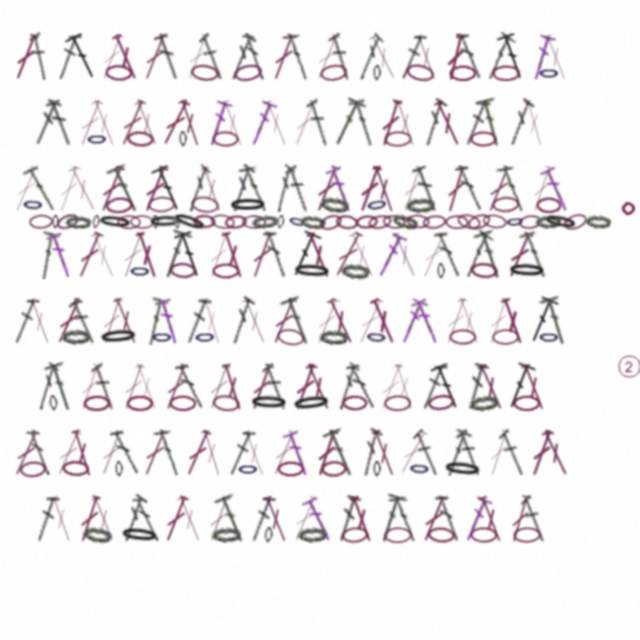chain: (171, 210, 208, 234), (291, 393, 332, 413), (442, 459, 483, 479), (119, 525, 160, 545), (98, 327, 139, 346), (542, 212, 579, 232), (292, 262, 332, 280), (507, 262, 547, 279), (249, 394, 289, 411), (97, 213, 133, 231), (228, 197, 268, 213), (233, 62, 263, 83), (405, 62, 435, 83), (468, 393, 499, 413), (276, 327, 305, 347), (190, 195, 220, 214), (319, 195, 349, 214), (82, 525, 112, 544), (562, 211, 589, 232), (190, 63, 219, 82), (319, 63, 348, 82), (55, 211, 81, 232), (466, 211, 492, 232), (405, 196, 435, 214), (340, 262, 370, 280), (391, 212, 419, 231), (427, 393, 455, 412), (148, 214, 183, 229), (318, 212, 344, 232), (211, 526, 241, 543), (297, 526, 327, 543), (126, 130, 154, 148), (105, 196, 133, 214), (212, 394, 240, 412), (19, 460, 47, 478), (341, 526, 369, 544), (427, 526, 455, 544), (456, 212, 482, 231), (61, 328, 90, 345), (169, 262, 197, 279), (470, 262, 498, 279), (367, 213, 393, 231), (319, 329, 348, 345), (105, 64, 132, 81), (148, 196, 175, 213), (492, 196, 519, 213), (251, 213, 278, 230), (62, 460, 89, 477), (365, 195, 389, 214), (492, 65, 520, 81), (384, 131, 412, 147), (384, 527, 412, 543), (513, 527, 541, 543), (321, 460, 347, 477), (449, 65, 476, 81), (212, 131, 239, 147), (470, 131, 497, 147), (299, 214, 326, 230), (212, 263, 239, 279), (449, 329, 476, 345), (492, 329, 519, 345), (83, 395, 110, 411), (126, 395, 153, 411), (169, 395, 196, 411), (384, 395, 411, 411), (513, 395, 540, 411), (277, 461, 304, 477), (470, 527, 497, 543), (210, 213, 235, 230), (482, 213, 507, 230), (536, 197, 562, 213), (342, 395, 368, 411), (365, 328, 388, 346), (422, 214, 447, 230), (518, 214, 543, 230), (408, 460, 431, 477), (535, 214, 561, 229), (585, 214, 611, 229), (224, 214, 248, 230), (335, 214, 359, 230), (355, 214, 379, 230), (382, 214, 406, 230), (22, 196, 44, 213), (65, 215, 91, 229), (29, 214, 53, 229), (406, 214, 430, 229), (287, 213, 308, 230), (538, 65, 560, 81), (86, 131, 108, 147), (129, 263, 151, 279), (151, 329, 173, 345), (194, 329, 216, 345), (538, 329, 560, 345), (237, 461, 259, 477), (193, 214, 216, 229), (117, 215, 141, 229), (130, 215, 154, 229), (242, 215, 266, 229), (445, 215, 469, 229), (505, 214, 525, 229), (49, 395, 58, 411), (264, 527, 273, 543), (373, 65, 381, 81), (179, 131, 187, 147), (437, 263, 445, 279), (115, 461, 123, 477), (373, 461, 381, 477), (276, 215, 285, 229), (92, 215, 100, 229), (173, 215, 181, 229), (52, 215, 59, 229), (152, 215, 159, 229)
double: (328, 97, 367, 149), (106, 163, 145, 215), (322, 427, 360, 479), (64, 31, 102, 82), (429, 360, 466, 412), (214, 493, 251, 545), (21, 164, 59, 214), (150, 163, 187, 214), (286, 229, 323, 280), (280, 295, 316, 347), (481, 31, 517, 82), (459, 229, 495, 280), (524, 295, 560, 346), (158, 229, 193, 281), (473, 229, 508, 281), (65, 164, 101, 214), (502, 361, 537, 412), (539, 295, 573, 347), (44, 361, 78, 413), (374, 493, 408, 545), (330, 230, 366, 279), (395, 428, 431, 477), (366, 32, 401, 82), (158, 98, 193, 148), (373, 230, 408, 280), (538, 428, 573, 478), (301, 494, 336, 544), (496, 31, 530, 82), (238, 163, 272, 214), (173, 229, 207, 280), (439, 427, 473, 478), (431, 98, 465, 148), (539, 164, 573, 214), (345, 230, 379, 280), (388, 230, 422, 280), (52, 296, 86, 346), (324, 296, 358, 346), (353, 296, 387, 346), (474, 362, 508, 412), (9, 428, 43, 478), (496, 163, 529, 214), (388, 493, 421, 544), (109, 32, 142, 82), (30, 98, 63, 148), (116, 98, 149, 148), (9, 164, 42, 214), (95, 164, 128, 214), (73, 230, 106, 280), (87, 230, 120, 280), (417, 230, 450, 280), (503, 230, 536, 280), (238, 296, 271, 346), (367, 296, 400, 346), (396, 296, 429, 346), (410, 296, 443, 346), (302, 362, 335, 412), (52, 428, 85, 478), (181, 428, 214, 478), (267, 428, 300, 478), (173, 494, 206, 544), (288, 494, 321, 544), (460, 494, 493, 544), (475, 97, 507, 148), (518, 229, 550, 280), (10, 32, 42, 82), (139, 32, 171, 82), (311, 32, 343, 82), (540, 32, 572, 82), (45, 98, 77, 148), (74, 98, 106, 148), (88, 98, 120, 148), (131, 98, 163, 148), (246, 98, 278, 148), (260, 98, 292, 148), (289, 98, 321, 148), (139, 164, 171, 214), (311, 164, 343, 214), (411, 164, 443, 214), (483, 164, 515, 214), (303, 230, 335, 280), (110, 296, 142, 346), (268, 296, 300, 346), (311, 296, 343, 346), (131, 362, 163, 412), (160, 362, 192, 412), (375, 362, 407, 412), (518, 362, 550, 412), (139, 428, 171, 478), (368, 428, 400, 478), (88, 494, 120, 544), (160, 494, 192, 544), (260, 494, 292, 544), (418, 494, 450, 544), (475, 494, 507, 544), (282, 31, 313, 82), (153, 427, 184, 478), (96, 32, 127, 82), (153, 32, 184, 82), (182, 32, 213, 82), (268, 32, 299, 82), (411, 32, 442, 82), (217, 98, 248, 148), (325, 164, 356, 214), (354, 164, 385, 214), (45, 230, 76, 280), (117, 230, 148, 280), (24, 296, 55, 346), (440, 296, 471, 346), (454, 296, 485, 346), (246, 362, 277, 412), (96, 428, 127, 478), (239, 428, 270, 478), (282, 428, 313, 478), (526, 428, 557, 478), (346, 494, 377, 544), (225, 33, 257, 81), (67, 297, 99, 345), (347, 97, 377, 148), (504, 98, 535, 147), (346, 362, 377, 411), (110, 428, 141, 477), (411, 428, 442, 477), (497, 428, 528, 477), (175, 98, 205, 148), (390, 98, 420, 148), (54, 164, 84, 214), (197, 164, 227, 214), (369, 164, 399, 214), (527, 164, 557, 214), (132, 230, 162, 280), (218, 230, 248, 280), (247, 230, 277, 280), (498, 296, 528, 346), (75, 362, 105, 412), (118, 362, 148, 412), (204, 362, 234, 412), (290, 362, 320, 412), (46, 494, 76, 544), (204, 494, 234, 544), (197, 32, 227, 81), (226, 164, 256, 213), (226, 296, 256, 345), (175, 362, 205, 411), (226, 428, 256, 477), (118, 494, 148, 543), (519, 494, 549, 543), (204, 98, 233, 148), (376, 98, 405, 148), (398, 164, 427, 214), (204, 230, 233, 280), (97, 296, 126, 346), (140, 296, 169, 346), (154, 296, 183, 346), (197, 296, 226, 346), (484, 296, 513, 346), (218, 362, 247, 412), (390, 362, 419, 412), (68, 428, 97, 478), (197, 428, 226, 478), (312, 428, 341, 478), (484, 428, 513, 478), (75, 494, 104, 544), (355, 33, 385, 81), (132, 495, 162, 543), (398, 32, 427, 81), (419, 98, 448, 147), (462, 98, 491, 147), (455, 164, 484, 213), (11, 296, 40, 345), (183, 296, 212, 345), (261, 362, 290, 411), (419, 362, 448, 411), (455, 428, 484, 477), (528, 32, 556, 82), (520, 98, 548, 148), (442, 164, 470, 214), (334, 494, 362, 544), (506, 494, 534, 544), (184, 164, 212, 213), (284, 164, 312, 213), (434, 230, 462, 279), (90, 362, 118, 411), (248, 494, 276, 543), (33, 230, 60, 280), (463, 362, 490, 412), (55, 32, 82, 81), (327, 32, 354, 81), (456, 32, 483, 81), (305, 98, 332, 147), (334, 362, 361, 411), (26, 428, 53, 477), (33, 494, 60, 543), (443, 32, 469, 82), (34, 362, 60, 411), (357, 428, 383, 477), (435, 494, 461, 543), (242, 32, 267, 81), (263, 230, 288, 279), (272, 164, 296, 213), (28, 32, 51, 81)
noise: (616, 353, 640, 379), (620, 200, 637, 217)
